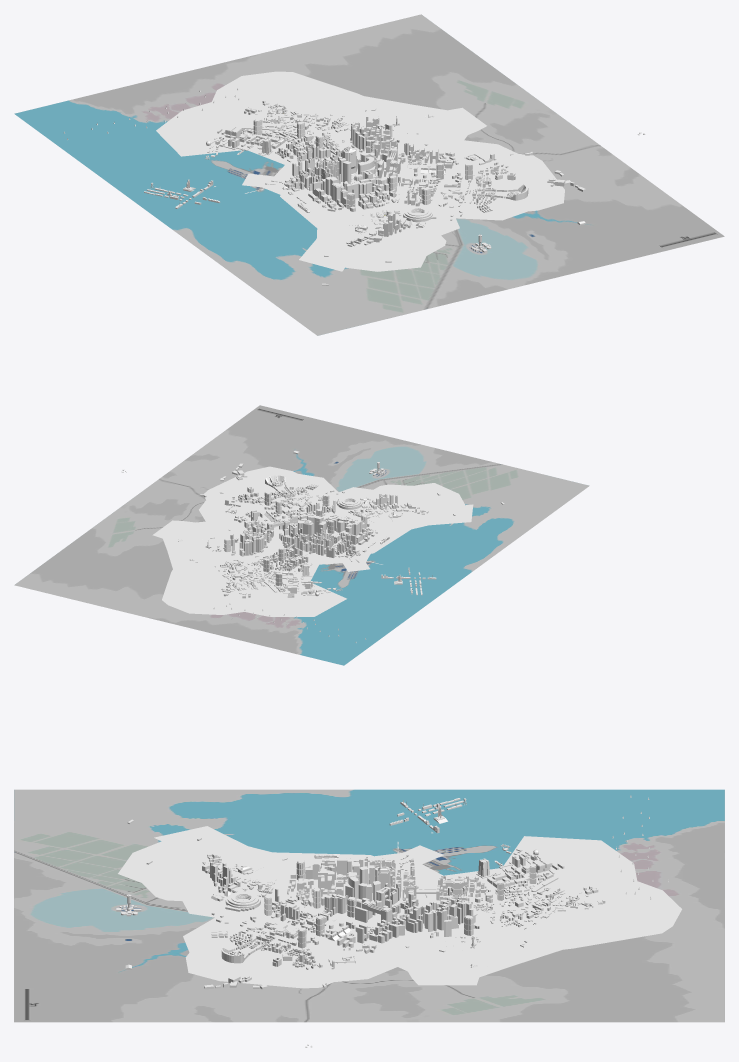
Rendered from cleanedmap.glb.
The picture shows the model from 3 angles, top to bottom: view 1: azimuth 30°, elevation 25°; view 2: azimuth 150°, elevation 25°; view 3: azimuth 270°, elevation 25°; orthographic projection. The views are drawn at different scales.
Parts seen in each view (by area): view 1: Material2.049, Material2, district_1, district_2, district_3, district_4, Material2.001, district_5, Material2.002, district_6; view 2: Material2.049, Material2, district_1, district_2, district_4, district_3, Material2.001, Material2.002, district_5, district_6; view 3: Material2.049, Material2, district_1, district_2, district_3, district_4, Material2.001, Material2.002, district_5, district_6, Material3.001.
Boxes of the visible parts, box(x1,y1,x2,y2) form: Material2.049: box(14, 14, 724, 335); Material2: box(144, 108, 533, 246); district_1: box(156, 71, 356, 164); district_2: box(334, 93, 517, 165); district_3: box(412, 154, 564, 220); district_4: box(299, 212, 459, 271); Material2.001: box(64, 88, 641, 232); district_5: box(280, 161, 425, 228); Material2.002: box(97, 102, 585, 285); district_6: box(242, 152, 382, 194); Material2.049: box(14, 405, 589, 665); Material2: box(190, 475, 436, 595); district_1: box(162, 552, 346, 616); district_2: box(152, 500, 269, 572); district_4: box(339, 483, 473, 529); district_3: box(204, 466, 342, 522); Material2.001: box(122, 463, 402, 638); Material2.002: box(224, 450, 504, 635); district_5: box(263, 509, 410, 553); district_6: box(268, 533, 370, 571); Material2.049: box(14, 789, 724, 1022); Material2: box(202, 798, 579, 988); district_1: box(445, 836, 681, 948); district_2: box(326, 916, 572, 985); district_3: box(183, 903, 357, 988); district_4: box(118, 826, 271, 917); Material2.001: box(204, 795, 668, 1047); Material2.002: box(125, 798, 649, 969); district_5: box(260, 852, 380, 934); district_6: box(344, 845, 443, 915); Material3.001: box(116, 796, 668, 967).
Bounding box in the file's own units: 492068 × 20677 × 418229.
62 materials, 3 textured.
